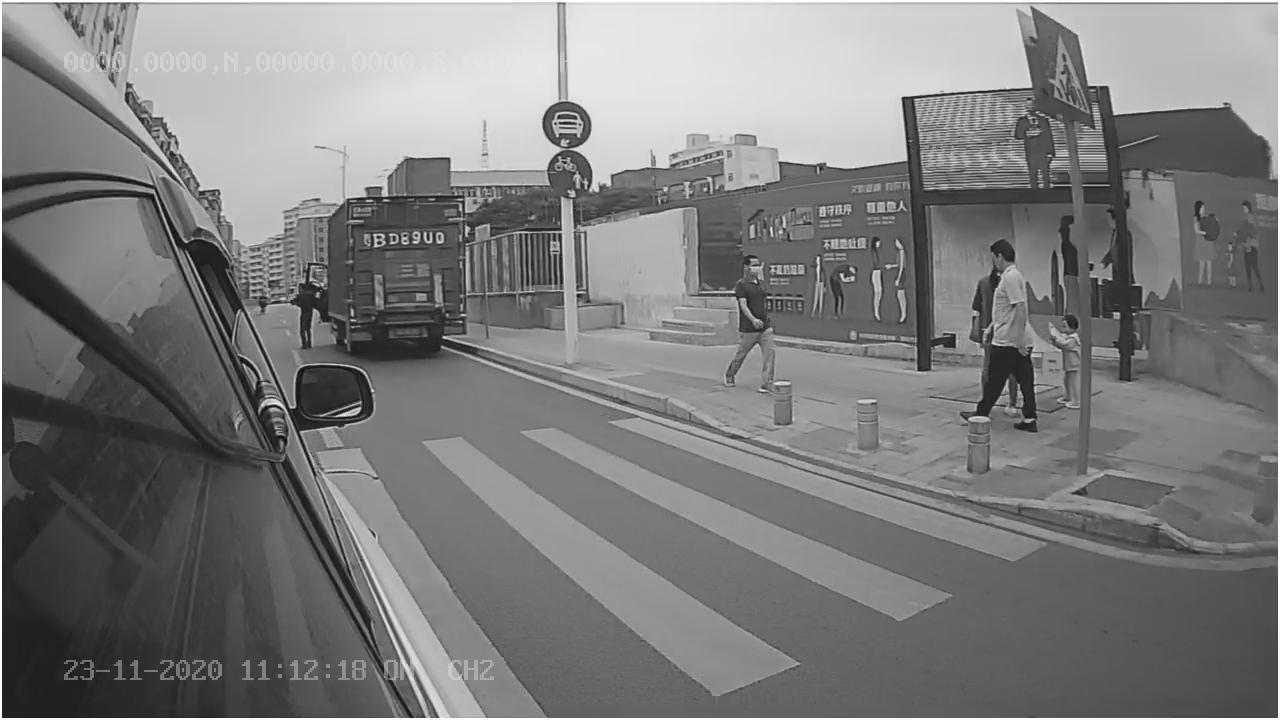person: (721, 251, 781, 389)
